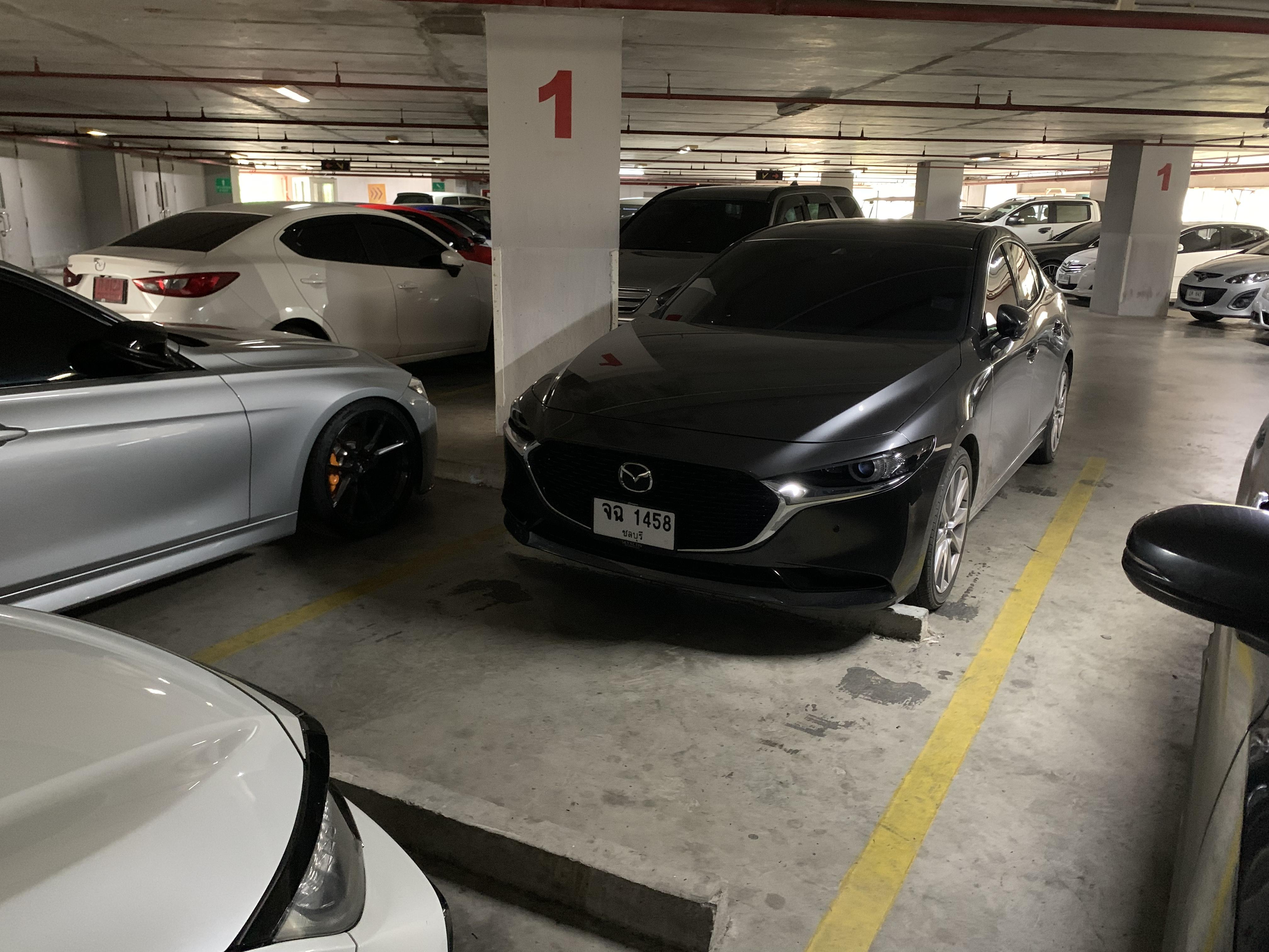license-plate: (584, 491, 680, 557), (88, 274, 130, 305)
